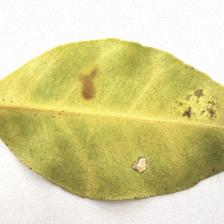black spot: (68, 59, 216, 172)
